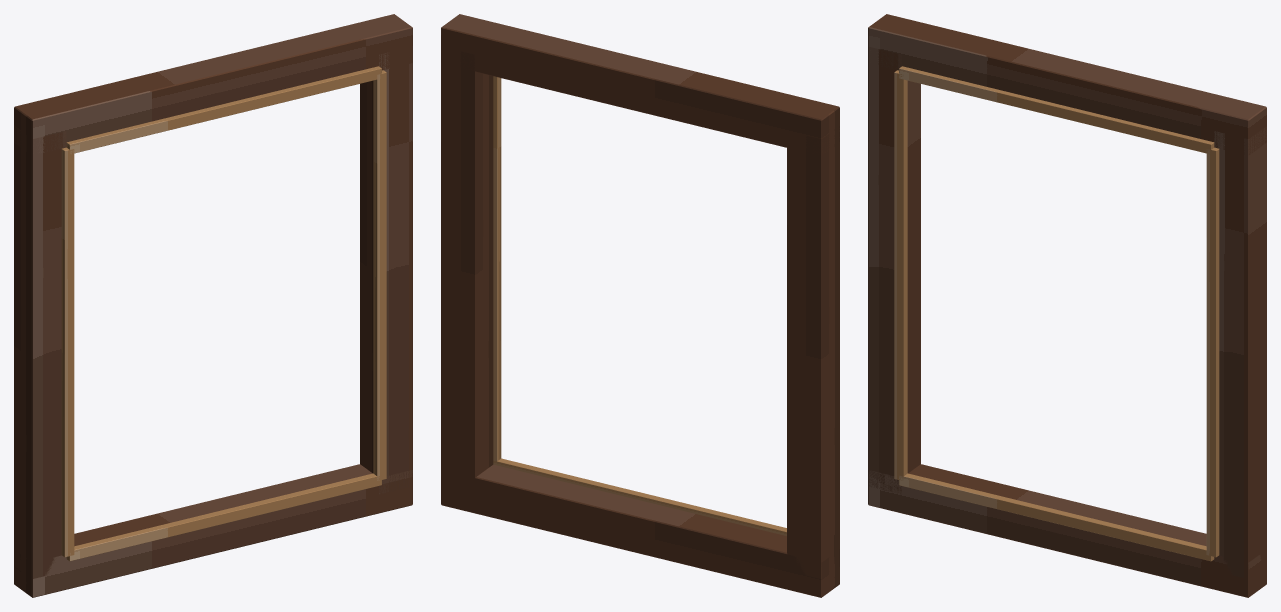
File: normal_painting_frame_empty.glb
The picture shows the model from 3 angles, left to right: view 1: azimuth 30°, elevation 25°; view 2: azimuth 150°, elevation 25°; view 3: azimuth 330°, elevation 25°; orthographic projection.
Visible parts, largest first — view 1: FrameL, FrameTop, FrameR, FrameBottom, InnerTrimL, InnerTrimR, InnerTrimBottom, InnerTrimTop; view 2: FrameL, FrameR, FrameTop, FrameBottom, InnerTrimR, InnerTrimBottom; view 3: FrameR, FrameTop, FrameL, FrameBottom, InnerTrimR, InnerTrimL, InnerTrimBottom, InnerTrimTop.
Part boxes in pixels (left/top/right/bottom): FrameL: left=14, top=126, right=66, bottom=578; FrameTop: left=14, top=14, right=412, bottom=155; FrameR: left=360, top=46, right=412, bottom=494; FrameBottom: left=14, top=464, right=412, bottom=597; InnerTrimL: left=61, top=147, right=74, bottom=557; InnerTrimR: left=373, top=70, right=386, bottom=480; InnerTrimBottom: left=66, top=473, right=381, bottom=561; InnerTrimTop: left=66, top=66, right=381, bottom=153; FrameL: left=787, top=126, right=839, bottom=578; FrameR: left=441, top=46, right=493, bottom=493; FrameTop: left=441, top=14, right=839, bottom=153; FrameBottom: left=441, top=464, right=839, bottom=597; InnerTrimR: left=493, top=76, right=501, bottom=461; InnerTrimBottom: left=493, top=458, right=786, bottom=535; FrameR: left=1214, top=126, right=1266, bottom=578; FrameTop: left=868, top=14, right=1266, bottom=154; FrameL: left=868, top=46, right=920, bottom=493; FrameBottom: left=868, top=464, right=1266, bottom=597; InnerTrimR: left=1206, top=147, right=1219, bottom=557; InnerTrimL: left=894, top=70, right=907, bottom=480; InnerTrimBottom: left=899, top=473, right=1214, bottom=561; InnerTrimTop: left=899, top=66, right=1214, bottom=153.
Size of the model in its own units: 1.3 by 1.56 by 0.1276.
1 material, 1 textured.
